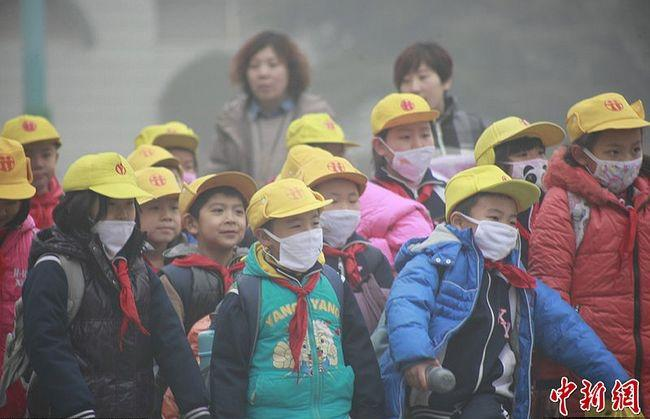NONE: (204, 203, 248, 250), (246, 57, 287, 103), (399, 69, 440, 113), (144, 204, 185, 243), (18, 149, 60, 187)
OK: (589, 139, 646, 192), (466, 206, 519, 261), (270, 218, 324, 271), (311, 190, 360, 245), (503, 144, 551, 192)
WRONG: (86, 200, 137, 253), (388, 131, 437, 182)
